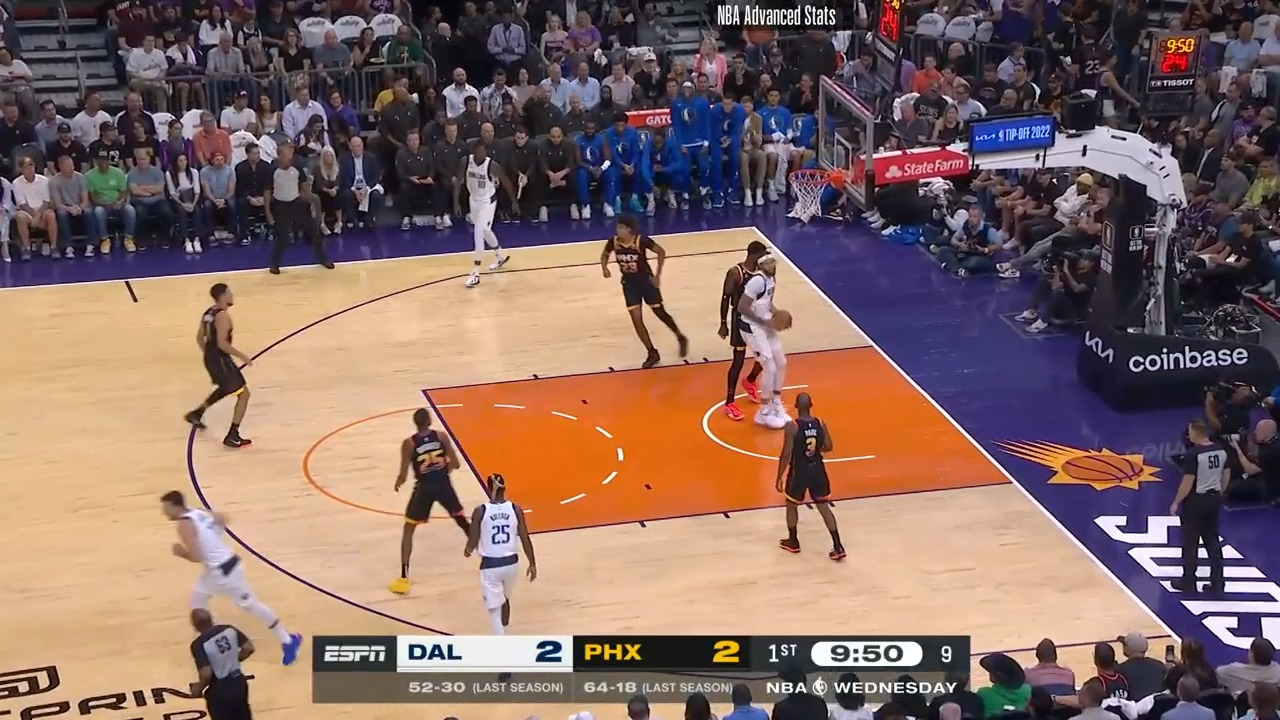net: (784, 159, 845, 221)
player: (158, 492, 310, 677), (390, 405, 487, 602), (600, 218, 702, 366), (766, 388, 847, 563), (182, 284, 257, 455), (464, 475, 536, 642), (718, 241, 766, 433), (455, 142, 509, 292), (736, 256, 783, 427)
referee: (1165, 417, 1228, 603), (179, 601, 261, 717), (265, 143, 329, 278)
